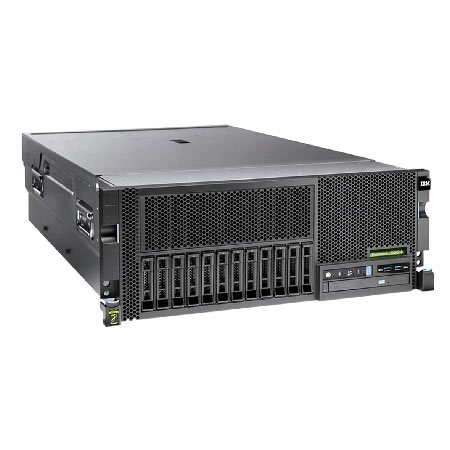ibm-server: (13, 113, 442, 331)
